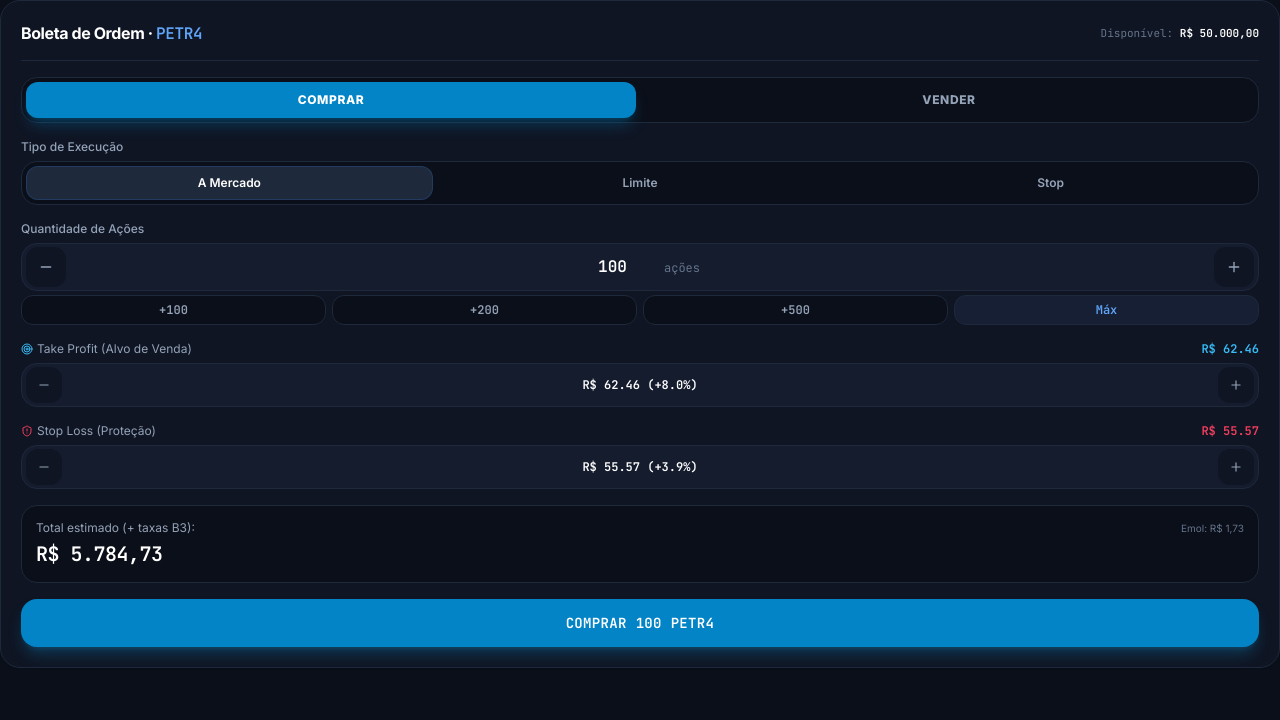
OrderPad Integration Tests › should add lot quantity when quick lot chips are clicked
The image size is (1280, 720).
Check: the number field showing "100" is shown, box [580,255,660,279]
Click the button "+100" at [174, 310], box [21,295,326,325]
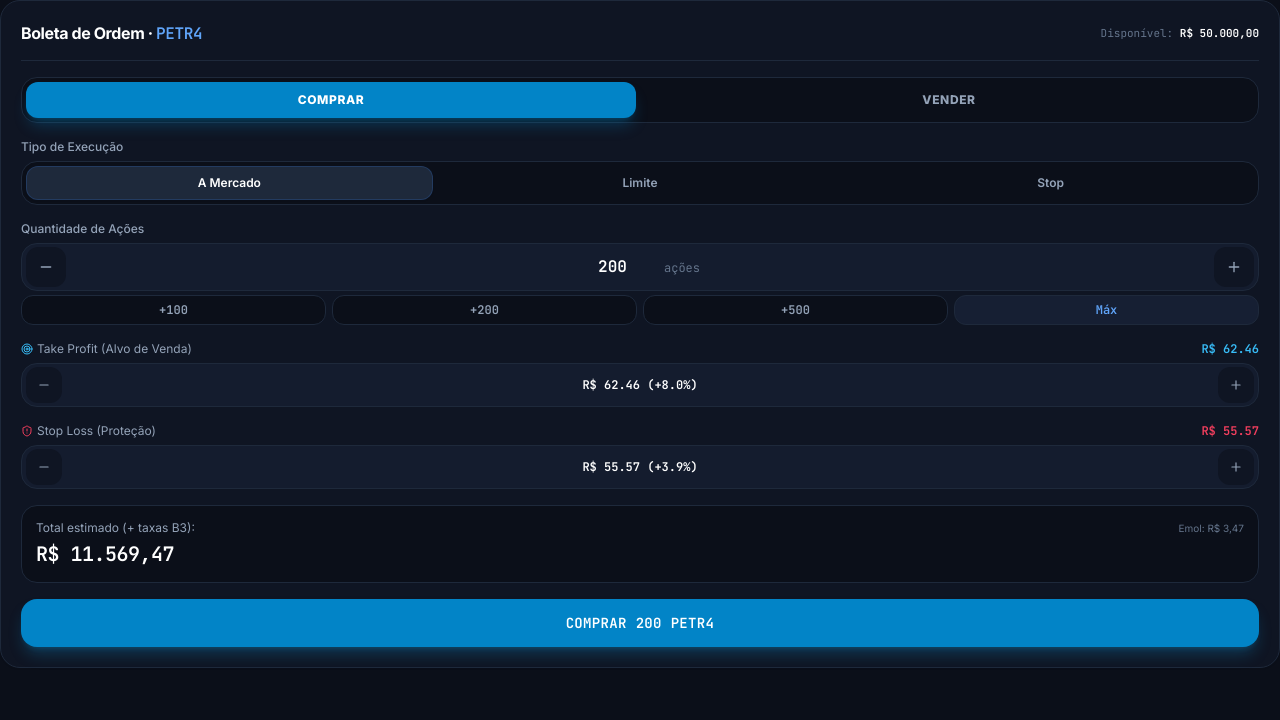
Check: the number field showing "200" is shown, box [580,255,660,279]
